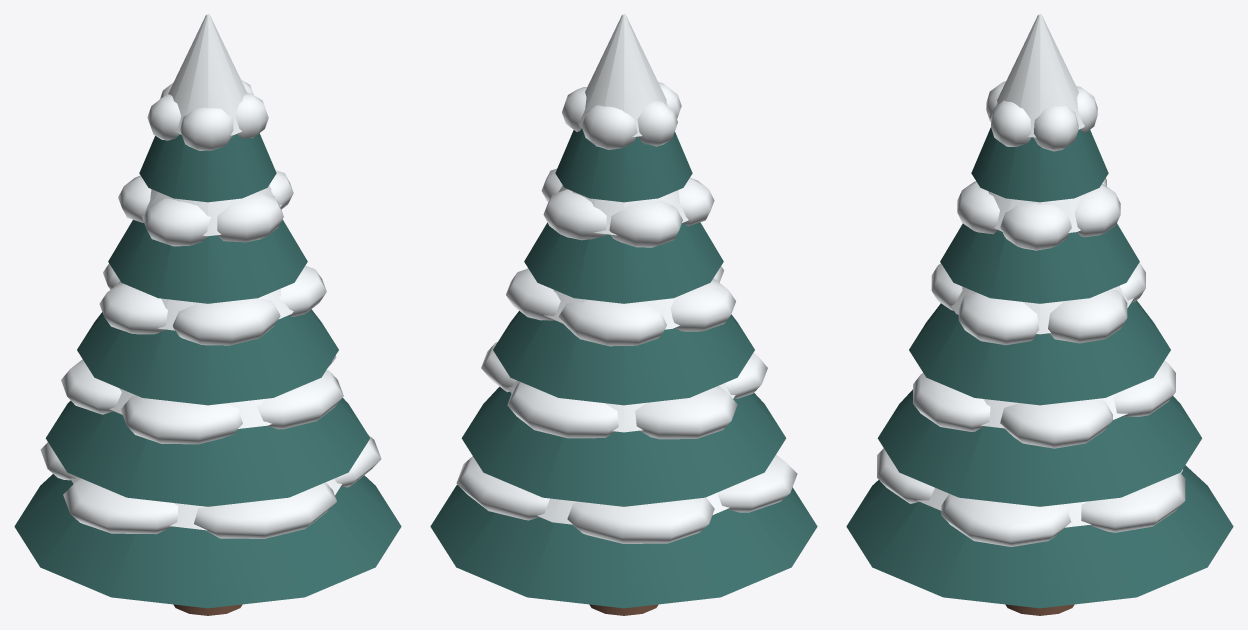
File: fir.glb
3 renders of one model, left to right at view 1: azimuth 30°, elevation 25°; view 2: azimuth 150°, elevation 25°; view 3: azimuth 270°, elevation 25°, orthographic.
Parts seen in each view (by area): view 1: grand-alpine-fir-pine, grand-alpine-fir-snow; view 2: grand-alpine-fir-pine, grand-alpine-fir-snow; view 3: grand-alpine-fir-pine, grand-alpine-fir-snow.
Boxes of the visible parts, x1=… form: grand-alpine-fir-pine: x1=14, y1=133, x2=401, y2=608; grand-alpine-fir-snow: x1=40, y1=14, x2=381, y2=538; grand-alpine-fir-pine: x1=430, y1=129, x2=817, y2=608; grand-alpine-fir-snow: x1=456, y1=14, x2=797, y2=543; grand-alpine-fir-pine: x1=846, y1=127, x2=1233, y2=608; grand-alpine-fir-snow: x1=877, y1=14, x2=1185, y2=546.
Size of the model in its own units: 3.1 by 5.17 by 3.1.
